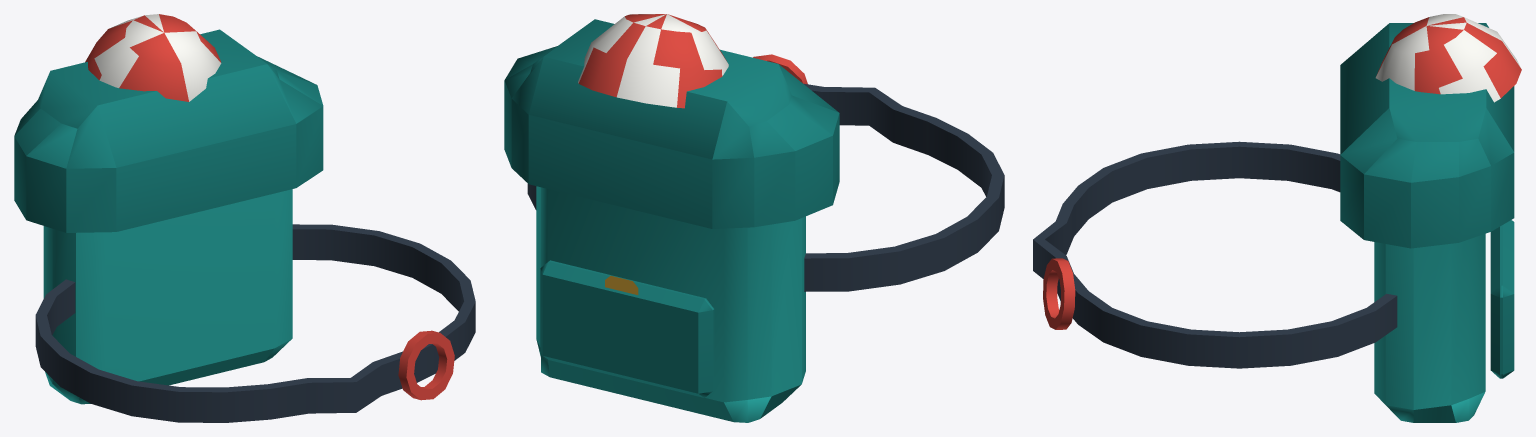
Rendered from MochilaParacaidas.fbx.
The picture shows the model from 3 angles, left to right: view 1: azimuth 30°, elevation 25°; view 2: azimuth 150°, elevation 25°; view 3: azimuth 270°, elevation 25°; orthographic projection. The views are drawn at different scales.
Parts seen in each view (by area): view 1: MochilaParacaidas; view 2: MochilaParacaidas; view 3: MochilaParacaidas.
Boxes of the visible parts, x1,y1,x2,y2 form: MochilaParacaidas: (14,14,475,422); MochilaParacaidas: (504,14,1004,422); MochilaParacaidas: (1033,14,1521,422).
Size of the model in its own units: 1.22 by 1.02 by 1.29.
1 material, 1 textured.
